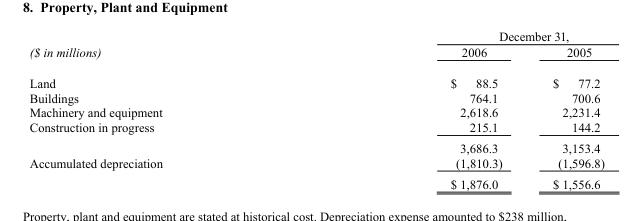table: (28, 29, 603, 190)
table column: (28, 29, 305, 190), (305, 29, 526, 190), (526, 29, 603, 190)
table column header: (28, 29, 603, 67)
table row: (28, 43, 603, 67), (28, 67, 603, 89), (28, 119, 603, 137), (28, 137, 603, 155), (28, 172, 603, 190), (28, 155, 603, 172), (28, 89, 603, 104), (28, 104, 603, 119), (28, 29, 603, 43)
table spanning cell: (28, 29, 305, 67), (305, 29, 603, 43)
